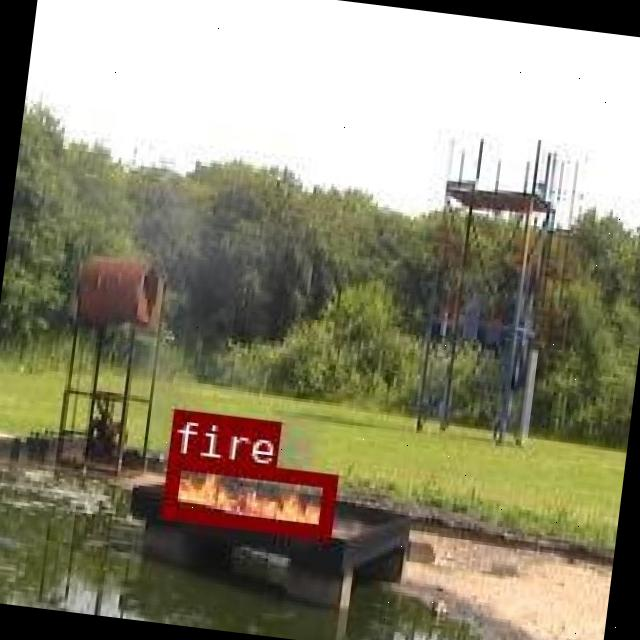fire: (161, 452, 335, 536)
